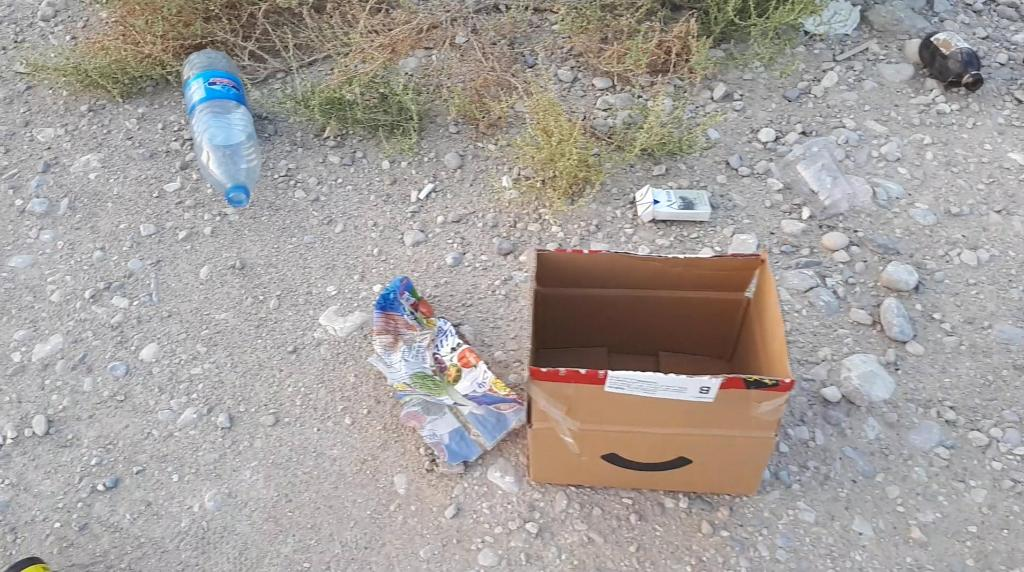garbage: (513, 251, 821, 500), (340, 273, 532, 487), (166, 35, 285, 220), (180, 49, 262, 207), (626, 180, 719, 231), (919, 30, 989, 93), (919, 29, 983, 91)
